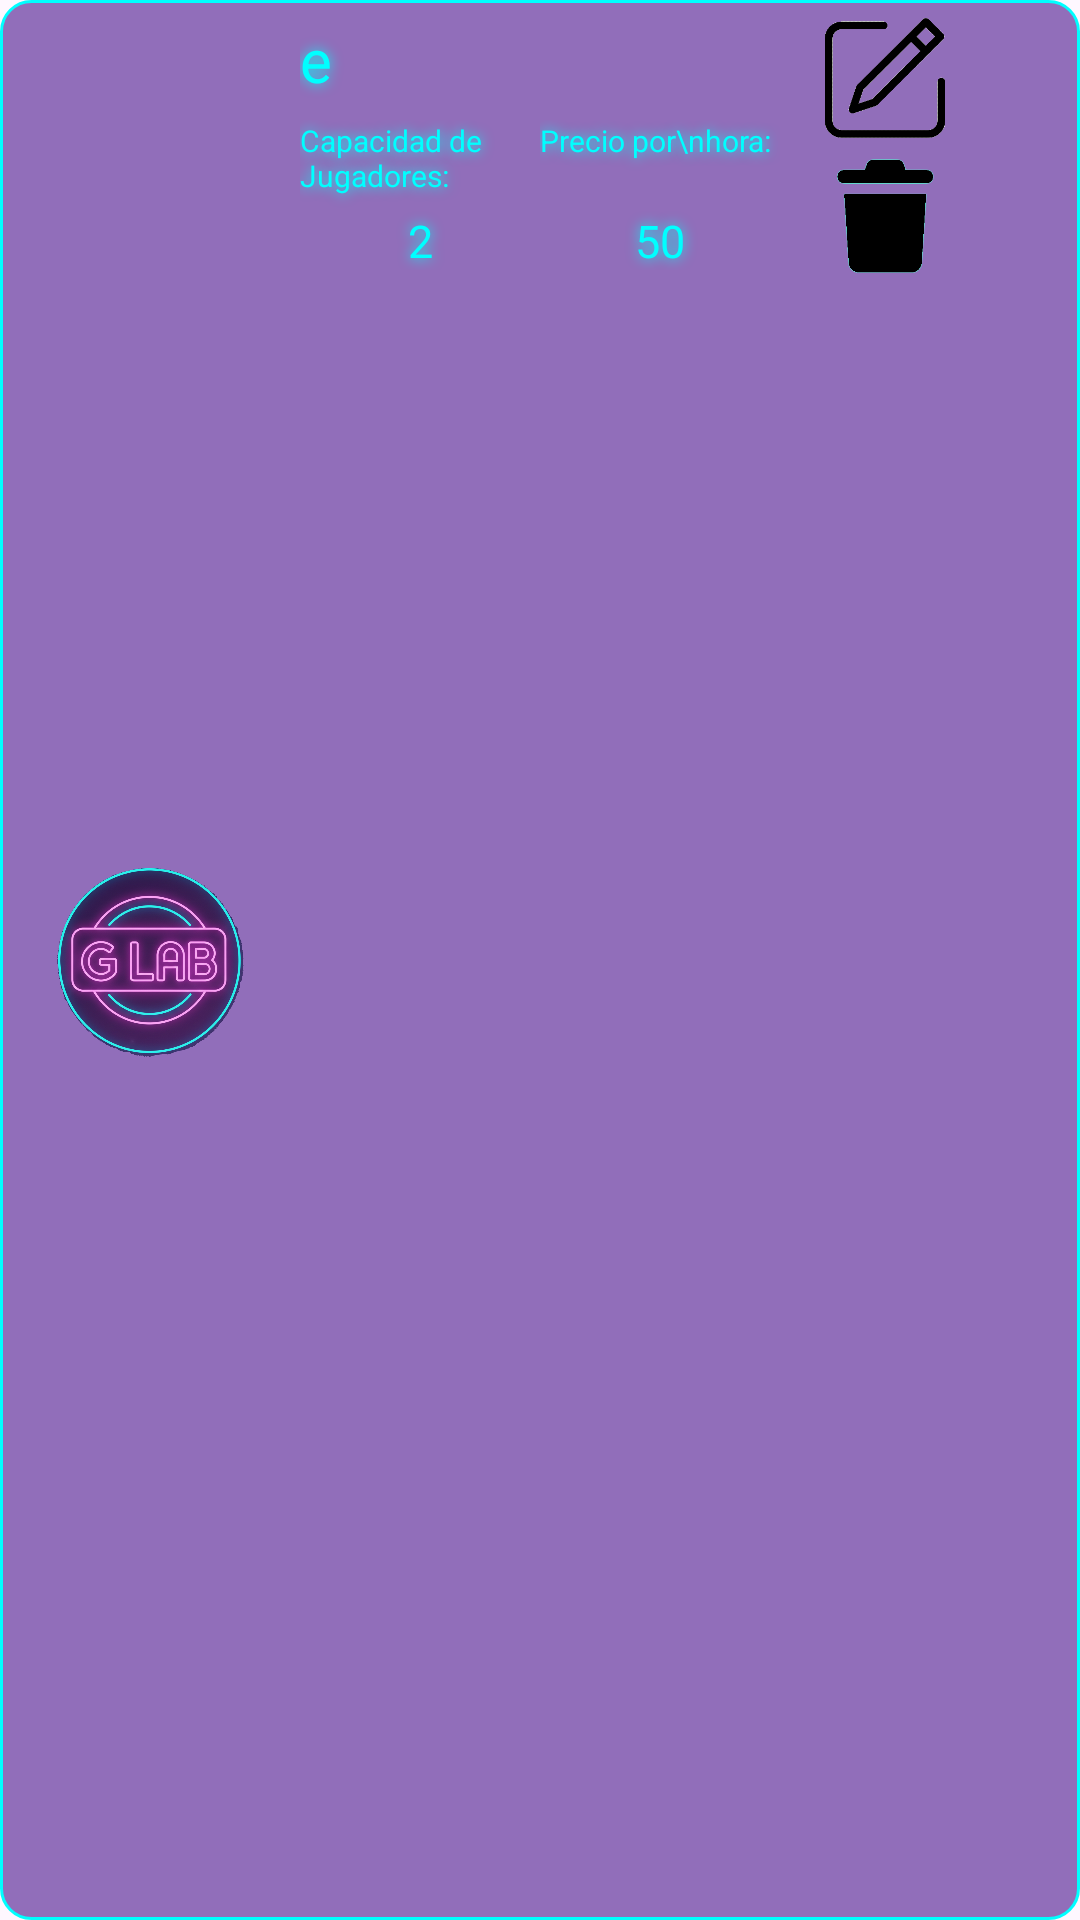

Icons on this 1080px×1920px Android screen, each with the point to tap as point (x, y):
basurita: point (885, 216)
editar: point (885, 78)
